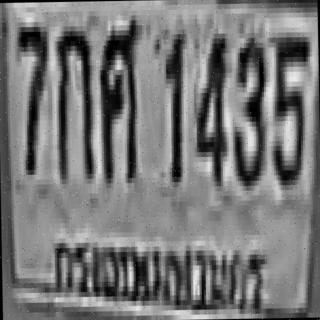A01: (55, 21, 92, 179)
A38: (97, 15, 140, 178)
N01: (163, 24, 184, 177)
N03: (230, 33, 266, 181)
N04: (192, 28, 227, 181)
N05: (269, 32, 310, 180)
N07: (14, 17, 49, 170)
P04: (50, 225, 272, 320)
